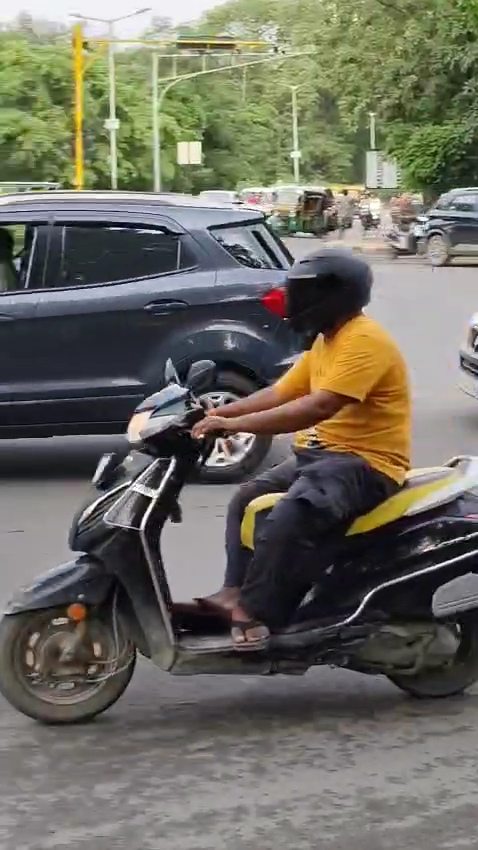BikeWithRider: (4, 243, 478, 727)
Helmet: (280, 244, 378, 341)
